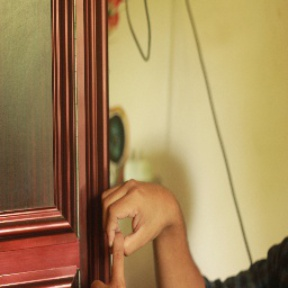Q: (80, 176, 176, 288)
